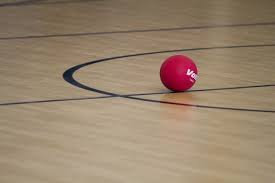red ball: (160, 55, 199, 92)
